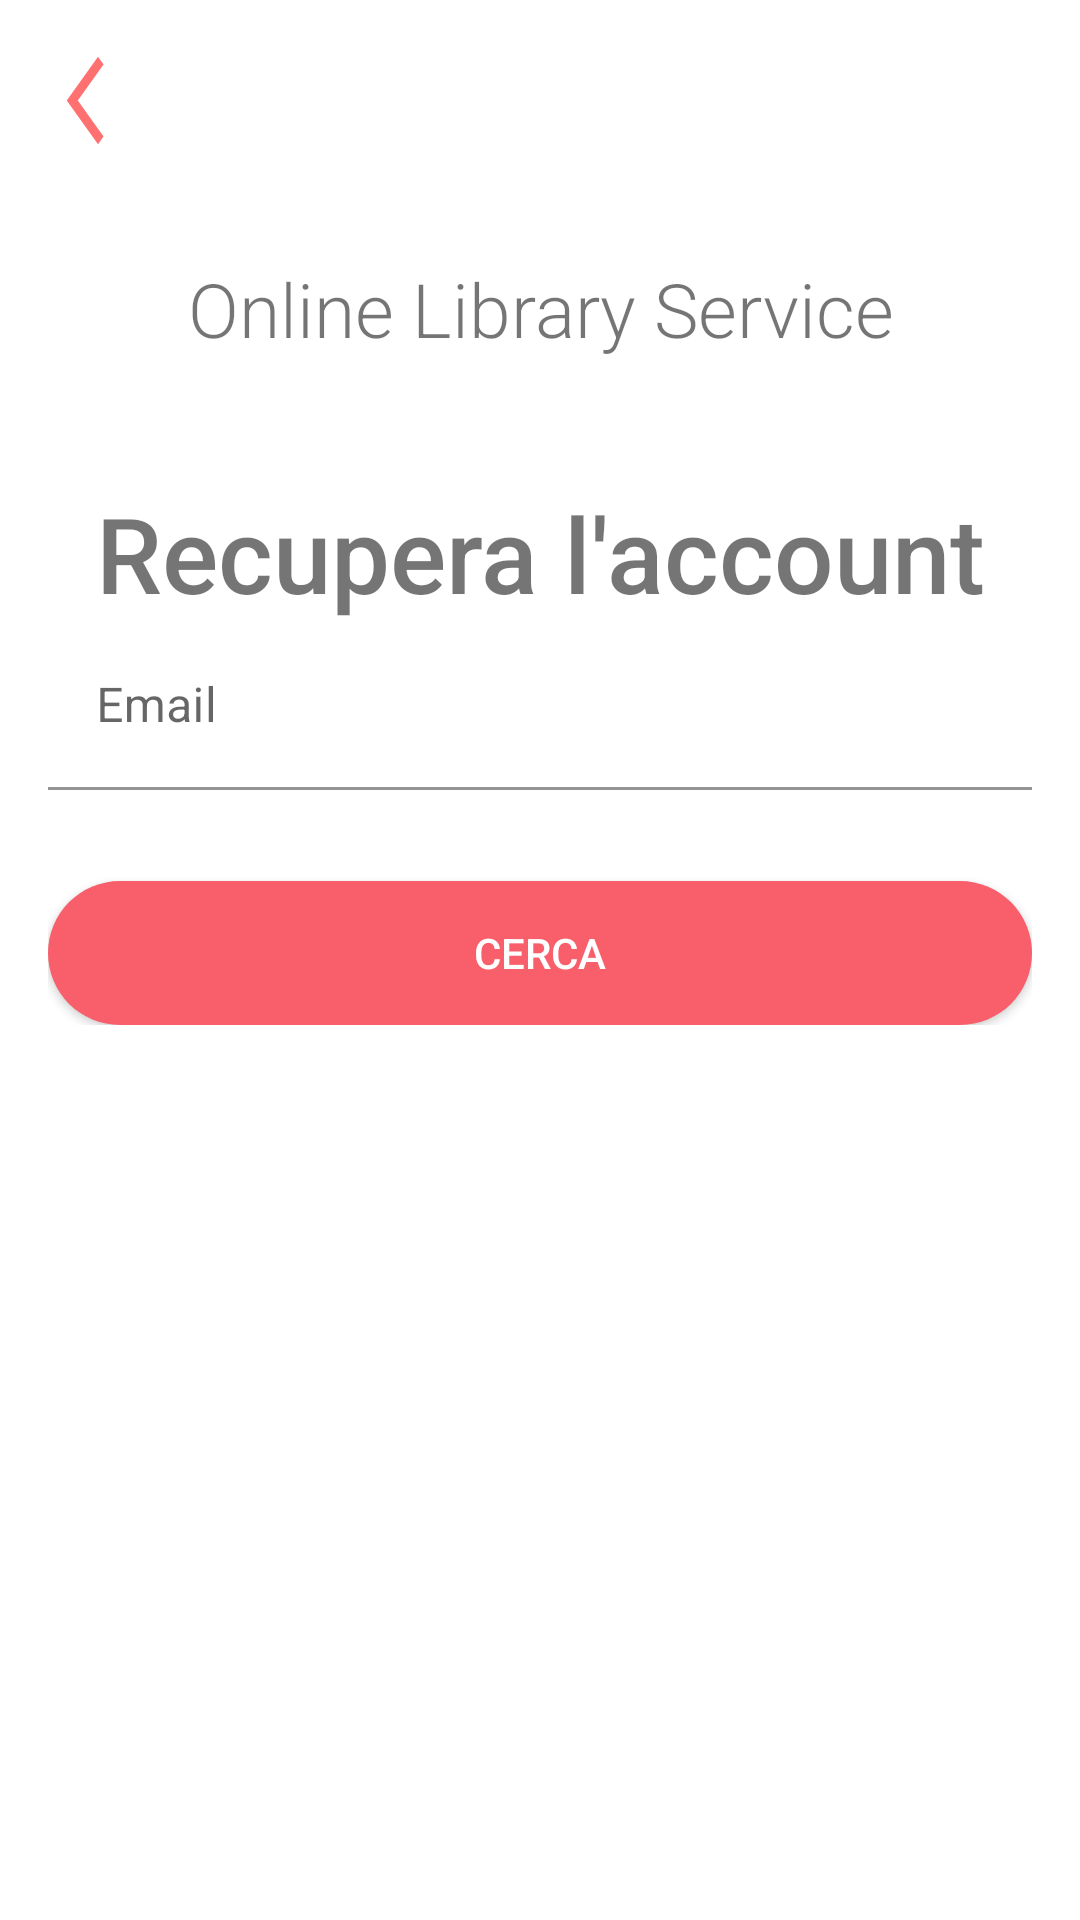

Where icons sit on this 1080w x 1920h app screen, as (x1, y1, x2, y2):
back: (67, 57, 104, 144)
